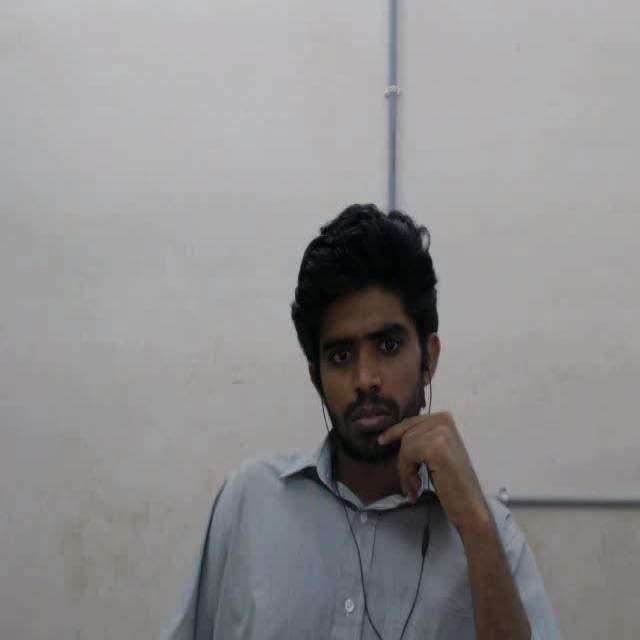Bored: (279, 181, 451, 483)
